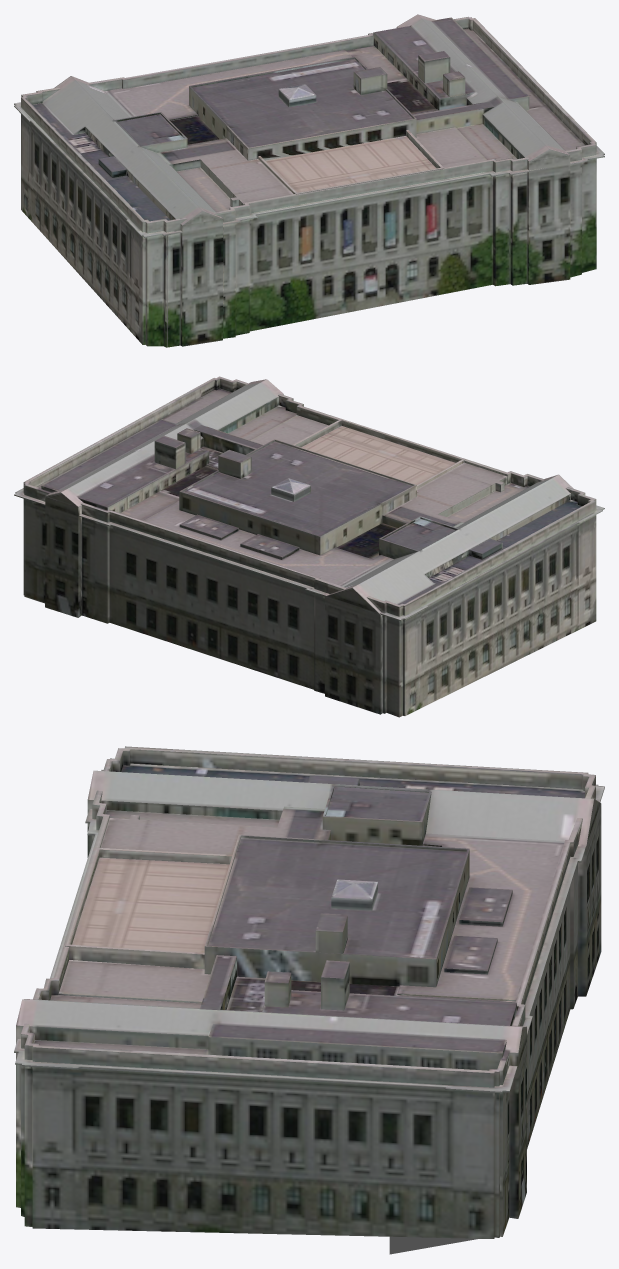
Rendered from Buildings_subset_57.dae.
3 renders of one model, top to bottom at view 1: azimuth 30°, elevation 25°; view 2: azimuth 150°, elevation 25°; view 3: azimuth 270°, elevation 25°, orthographic. The views are drawn at different scales.
Parts seen in each view (by area): view 1: Buildings_subset_57.dae (×20); view 2: Buildings_subset_57.dae (×15); view 3: Buildings_subset_57.dae (×25).
Part boxes in pixels (box(x1,y1,x2,y2)): Buildings_subset_57.dae (×20): box(14, 14, 604, 347); Buildings_subset_57.dae (×15): box(14, 376, 604, 717); Buildings_subset_57.dae (×25): box(14, 746, 604, 1254).
Size of the model in its own units: 332 by 248 by 120.
2 materials, 1 textured.
